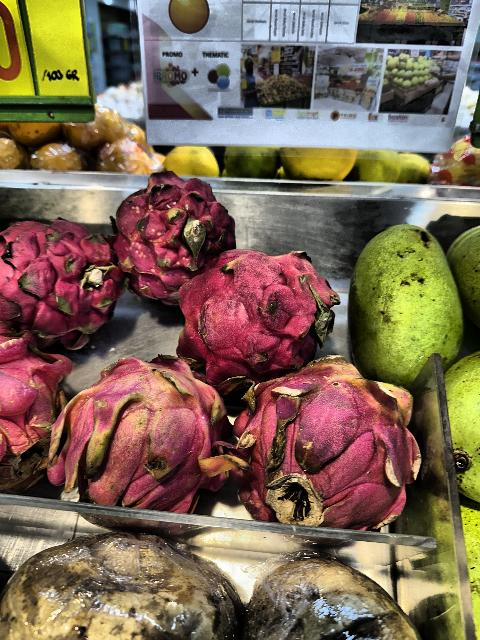buah-naga-belum-matang: (230, 350, 430, 538), (66, 352, 232, 528)
buah-naga-matang: (176, 248, 338, 369), (1, 210, 124, 344), (109, 170, 232, 286), (1, 328, 70, 502)
